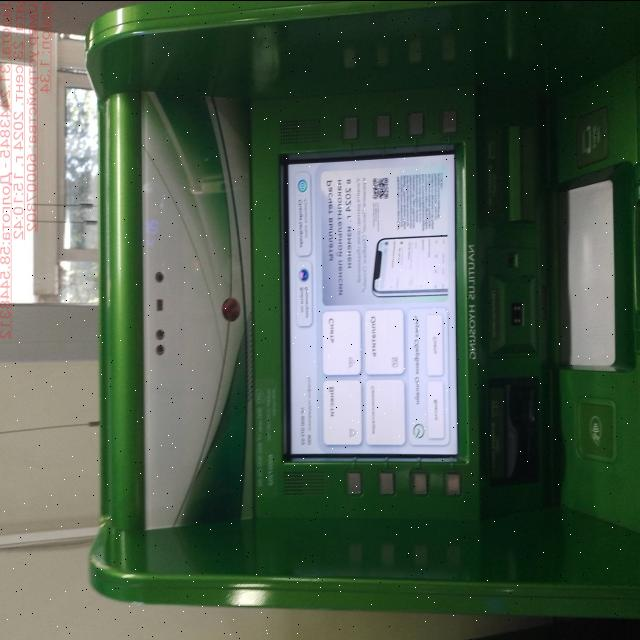bank: (81, 0, 640, 616)
